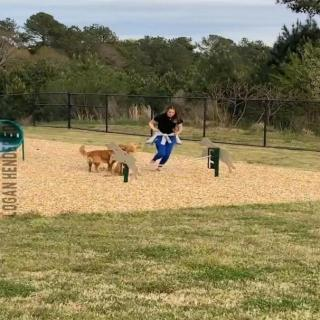person - v3 P: (154, 100, 182, 168)
